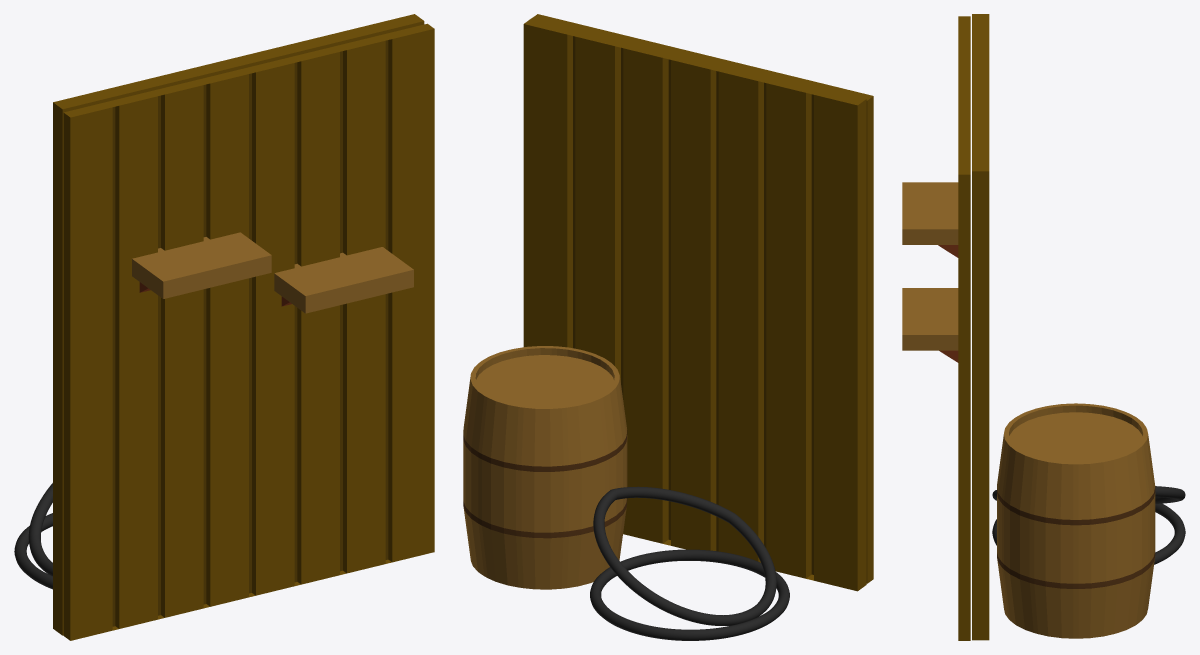
The picture shows the model from 3 angles, left to right: view 1: azimuth 30°, elevation 25°; view 2: azimuth 150°, elevation 25°; view 3: azimuth 270°, elevation 25°; orthographic projection. The views are drawn at different scales.
Parts seen in each view (by area): view 1: Tembok; view 2: Tembok; view 3: Tembok.
Boxes of the visible parts, x1=… form: Tembok: x1=14, y1=14, x2=434, y2=640; Tembok: x1=463, y1=14, x2=873, y2=640; Tembok: x1=902, y1=14, x2=1185, y2=640.
Size of the model in its own units: 676 by 928 by 508.
